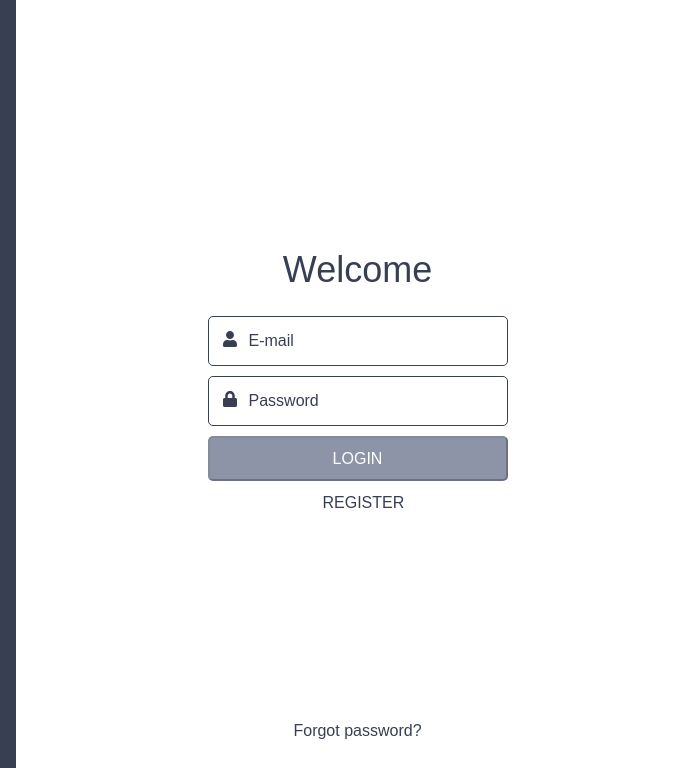
Test: Login Page › Event tests › Should show only email field when click on "Forgot password" button
The image size is (699, 768).
What coordinates should you click on to do the following:
click the button "Forgot password?"
I would click on:
 (358, 731)
Its box is [278,714,437,748].
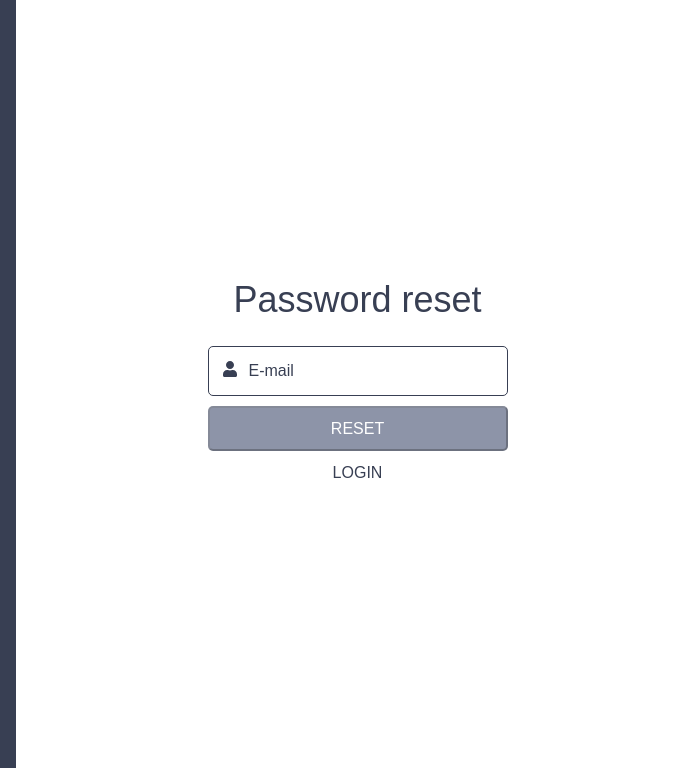
Expected: the number of fields is 1, [208,346,508,396]
Now no password fields named "password" are shown
